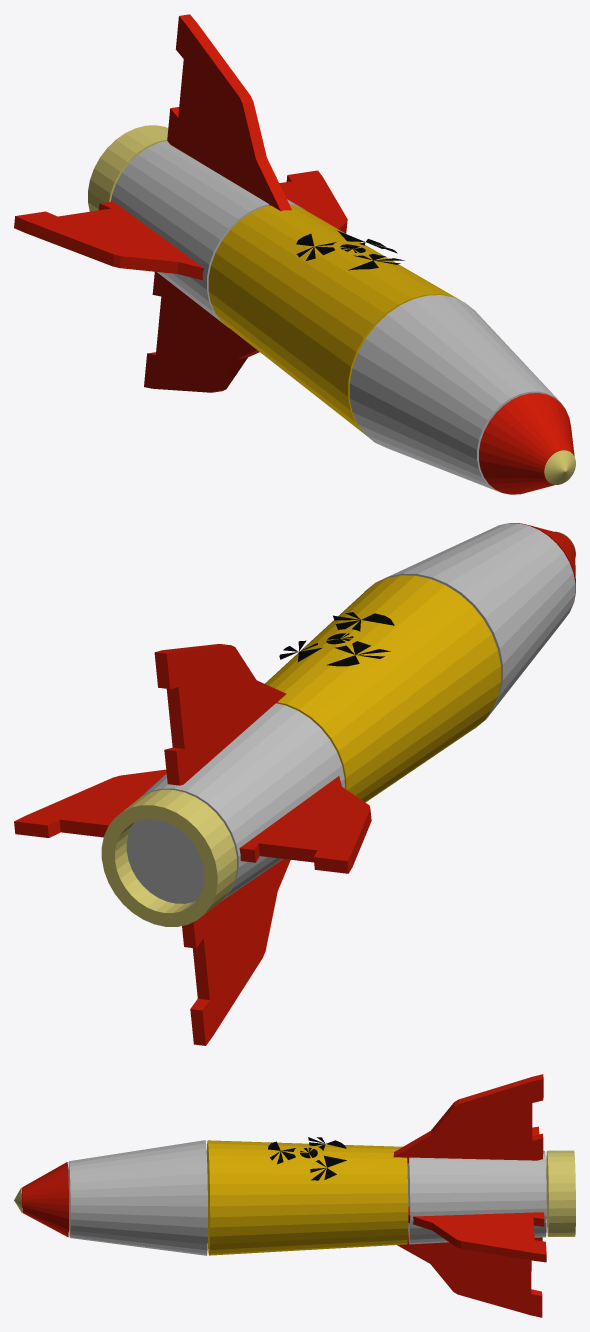
Rendered from Nuclear.glb.
The picture shows the model from 3 angles, top to bottom: view 1: azimuth 30°, elevation 25°; view 2: azimuth 150°, elevation 25°; view 3: azimuth 270°, elevation 25°; orthographic projection. The views are drawn at different scales.
Parts seen in each view (by area): view 1: Cylinder.002; view 2: Cylinder.002; view 3: Cylinder.002.
Part boxes in pixels (x1,y1,x2,y2): Cylinder.002: (14, 14, 575, 494); Cylinder.002: (14, 523, 575, 1045); Cylinder.002: (14, 1074, 575, 1317).
Size of the model in its own units: 1.31 by 1.46 by 2.95.
